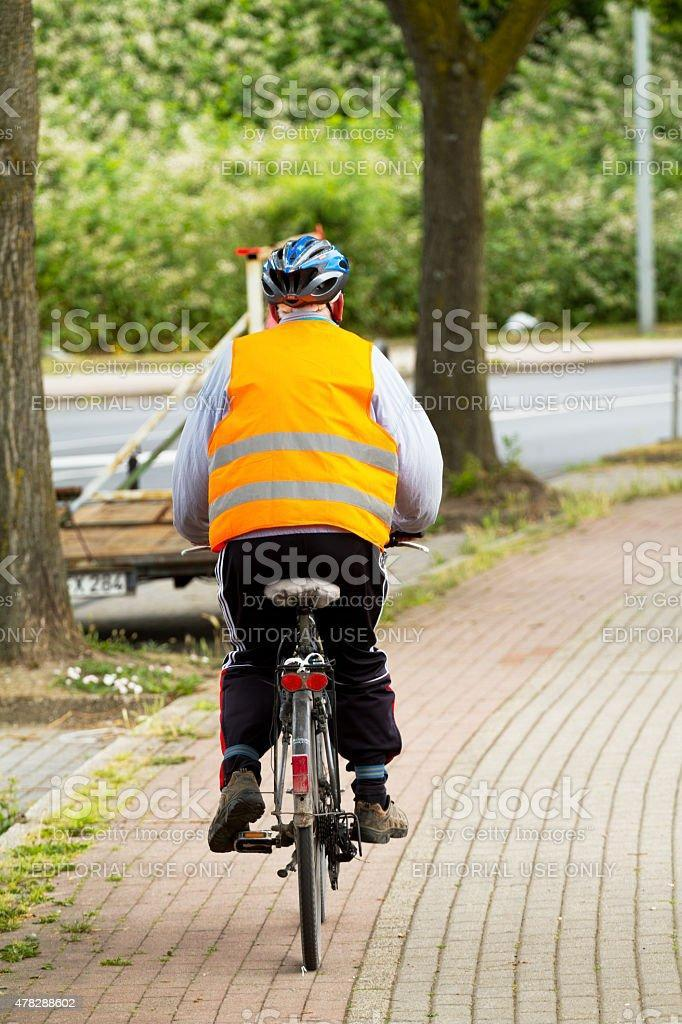Vest: (210, 315, 400, 555)
